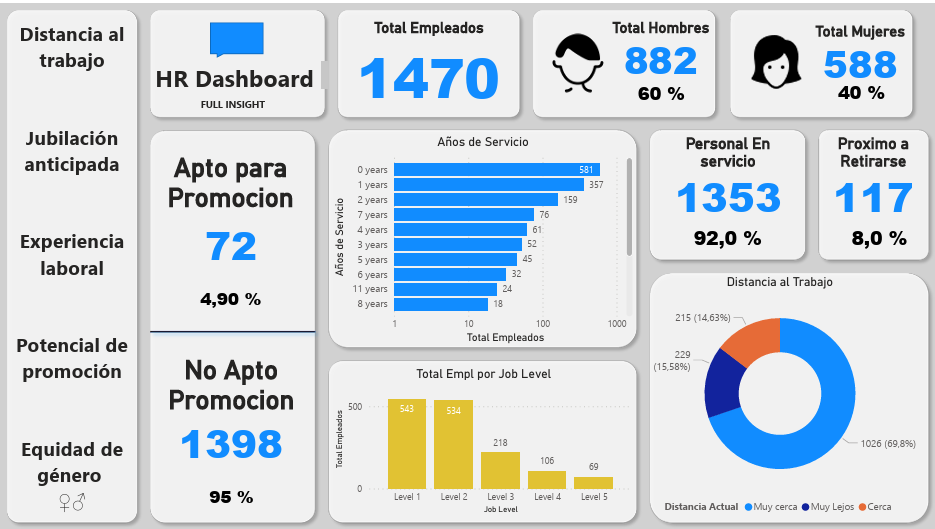

This screenshot's page, from the dashboard's own definition file:
{"tool":"powerbi","page":{"name":"Página 1","canvas":[1280,720],"ordinal":0},"visuals":[{"type":"shape","box":[0,0,196.2,720],"z":0},{"type":"shape","box":[196.2,0,256.2,165],"z":1000},{"type":"shape","box":[452.5,0,267.5,165],"z":2000},{"type":"shape","box":[720,0,267.5,165],"z":3000},{"type":"shape","box":[990,0,267.5,165],"z":4000},{"type":"shape","box":[196.2,165,243.8,555],"z":5000},{"type":"shape","box":[440,164.3,440,315.7],"z":6000},{"type":"shape","box":[440,480,440,240],"z":7000},{"type":"shape","box":[880,164.3,231.4,195.7],"z":8000},{"type":"shape","box":[1111.4,164.3,168.6,195.7],"z":9000},{"type":"shape","box":[880,360,400,360],"z":10000},{"type":"textbox","box":[195.7,74.3,257.1,50],"z":11000},{"type":"textbox","box":[195.7,124.3,244.3,37.1],"z":12000},{"type":"shape","box":[287.1,25.7,72.9,48.6],"z":13000},{"type":"card","title":"Total Empleados","fields":{"Values":["Medidas.Total Emp"]},"box":[452.9,21.4,267.1,127.1],"z":14000},{"type":"card","title":"Total Hombres","fields":{"Values":["Medidas.Male"]},"box":[824.3,21.4,160,85.7],"z":15000},{"type":"card","title":"Total Mujeres","fields":{"Values":["Medidas.Female"]},"box":[1097.1,25.7,160,85.7],"z":16000},{"type":"card","title":"Total Hombres","fields":{"Values":["Medidas.%male"]},"box":[850,98.6,108.6,50],"z":17000},{"type":"card","title":"Total Hombres","fields":{"Values":["Medidas.%female"]},"box":[1124.3,97.1,108.6,51.4],"z":18000},{"type":"image","box":[741.6,36,96.5,90.7],"z":19000},{"type":"image","box":[1013.8,34.6,96.5,90.7],"z":20000},{"type":"card","title":"No Apto Promocion","fields":{"Values":["Medidas.Not Due"]},"box":[172.5,480,286.2,157.5],"z":21000},{"type":"card","title":"Total Hombres","fields":{"Values":["Medidas.% Not Due"]},"box":[262.5,651.2,106.2,51.2],"z":22000},{"type":"card","title":"Apto para Promocion","fields":{"Values":["Medidas.Due for Promotion"]},"box":[144.3,202.9,341.4,168.6],"z":23000},{"type":"card","title":"Total Hombres","fields":{"Values":["Medidas.% Due for promotion"]},"box":[261.4,381.4,107.1,50],"z":24000},{"type":"shape","box":[196.2,418.8,243.8,61.2],"z":25000},{"type":"barChart","title":"Años de Servicio","fields":{"Category":["HR Analytics Data.Años de Servicio"],"Y":["Medidas.Total Emp"]},"box":[451.4,178.6,418.6,291.4],"z":26000},{"type":"columnChart","title":"Total Empl por Job Level","fields":{"Category":["HR Analytics Data.Job Level"],"Y":["Medidas.Total Emp"]},"box":[452.9,495.7,417.1,207.1],"z":27000},{"type":"card","title":"Personal En servicio","fields":{"Values":["Medidas.En servicio"]},"box":[915.7,178.6,160,118.6],"z":28000},{"type":"card","title":"Total Hombres","fields":{"Values":["Medidas.% En servicio"]},"box":[941.4,297.1,108.6,50],"z":29000},{"type":"card","title":"Proximo a Retirarse","fields":{"Values":["Medidas.Jubilacion"]},"box":[1120,178.6,150,118.6],"z":30000},{"type":"card","title":"Total Hombres","fields":{"Values":["Medidas.% Jubilacion"]},"box":[1148.6,297.1,108.6,50],"z":31000},{"type":"donutChart","title":"Distancia al Trabajo","fields":{"Category":["HR Analytics Data.Distancia del Trabajo"],"Y":["Medidas.Total Emp"]},"box":[853.8,371.2,426.2,336.2],"z":32000},{"type":"textbox","box":[10,0,175.7,720],"z":33000}]}

Visuals, with their boxes in screenshot pixels (x1, y1, x2, y2), scaled from the page's 1280x720 canvas onto the 935x529 screenshot:
shape: Rect(0, 0, 143, 528)
shape: Rect(143, 0, 330, 121)
shape: Rect(331, 0, 526, 121)
shape: Rect(526, 0, 721, 121)
shape: Rect(723, 0, 919, 121)
shape: Rect(143, 121, 321, 528)
shape: Rect(321, 121, 643, 353)
shape: Rect(321, 353, 643, 528)
shape: Rect(643, 121, 812, 264)
shape: Rect(812, 121, 934, 264)
shape: Rect(643, 264, 934, 528)
textbox: Rect(143, 55, 331, 91)
textbox: Rect(143, 91, 321, 119)
shape: Rect(210, 19, 263, 55)
"Total Empleados" card: Rect(331, 16, 526, 109)
"Total Hombres" card: Rect(602, 16, 719, 79)
"Total Mujeres" card: Rect(801, 19, 918, 82)
"Total Hombres" card: Rect(621, 72, 700, 109)
"Total Hombres" card: Rect(821, 71, 901, 109)
image: Rect(542, 26, 612, 93)
image: Rect(741, 25, 811, 92)
"No Apto Promocion" card: Rect(126, 353, 335, 468)
"Total Hombres" card: Rect(192, 478, 269, 516)
"Apto para Promocion" card: Rect(105, 149, 355, 273)
"Total Hombres" card: Rect(191, 280, 269, 317)
shape: Rect(143, 308, 321, 353)
"Años de Servicio" barChart: Rect(330, 131, 636, 345)
"Total Empl por Job Level" columnChart: Rect(331, 364, 636, 516)
"Personal En servicio" card: Rect(669, 131, 786, 218)
"Total Hombres" card: Rect(688, 218, 767, 255)
"Proximo a Retirarse" card: Rect(818, 131, 928, 218)
"Total Hombres" card: Rect(839, 218, 918, 255)
"Distancia al Trabajo" donutChart: Rect(624, 273, 934, 520)
textbox: Rect(7, 0, 136, 528)
